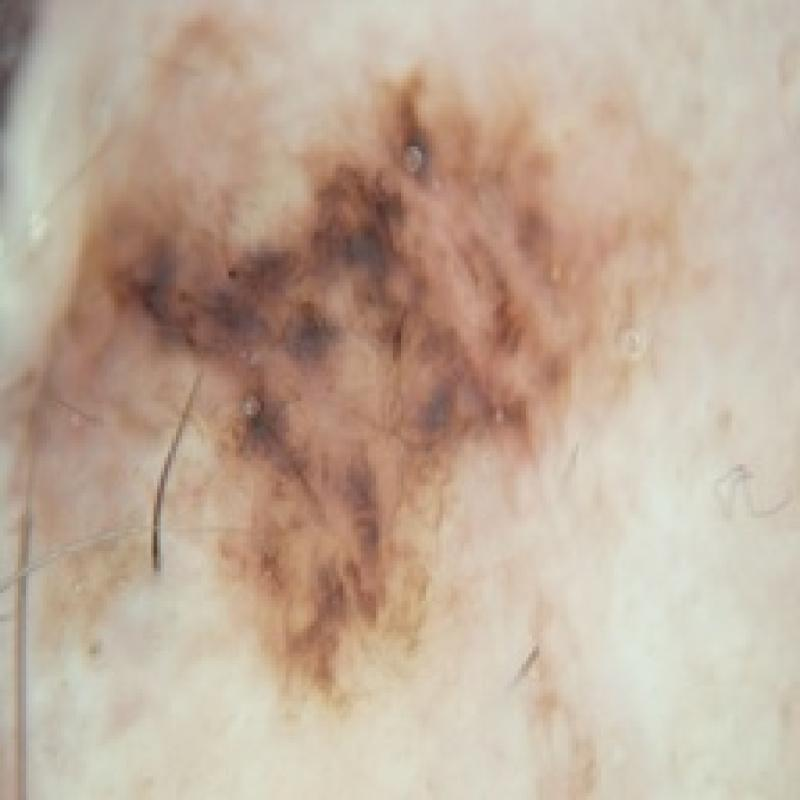malignant: (41, 58, 682, 702)
